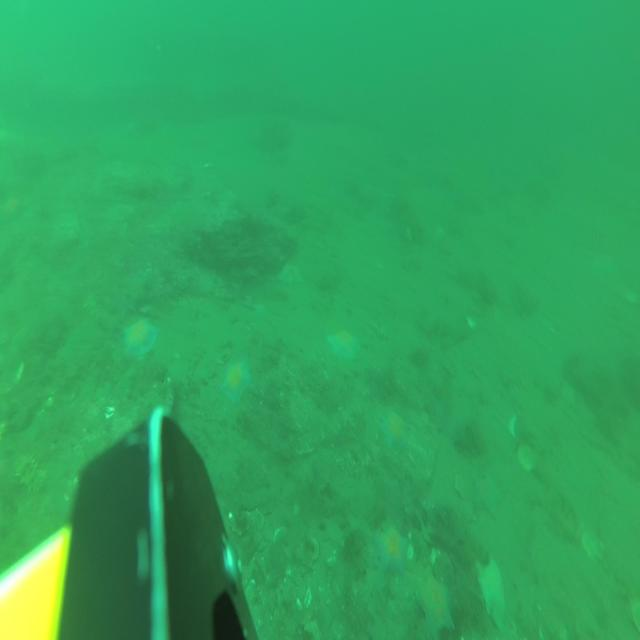holothurian: (15, 452, 45, 493)
scallop: (583, 526, 606, 561), (300, 536, 320, 568), (518, 440, 536, 472)
starfish: (416, 570, 454, 636), (377, 522, 408, 576), (124, 318, 158, 362), (221, 359, 252, 403), (382, 409, 410, 450), (328, 328, 360, 360)
